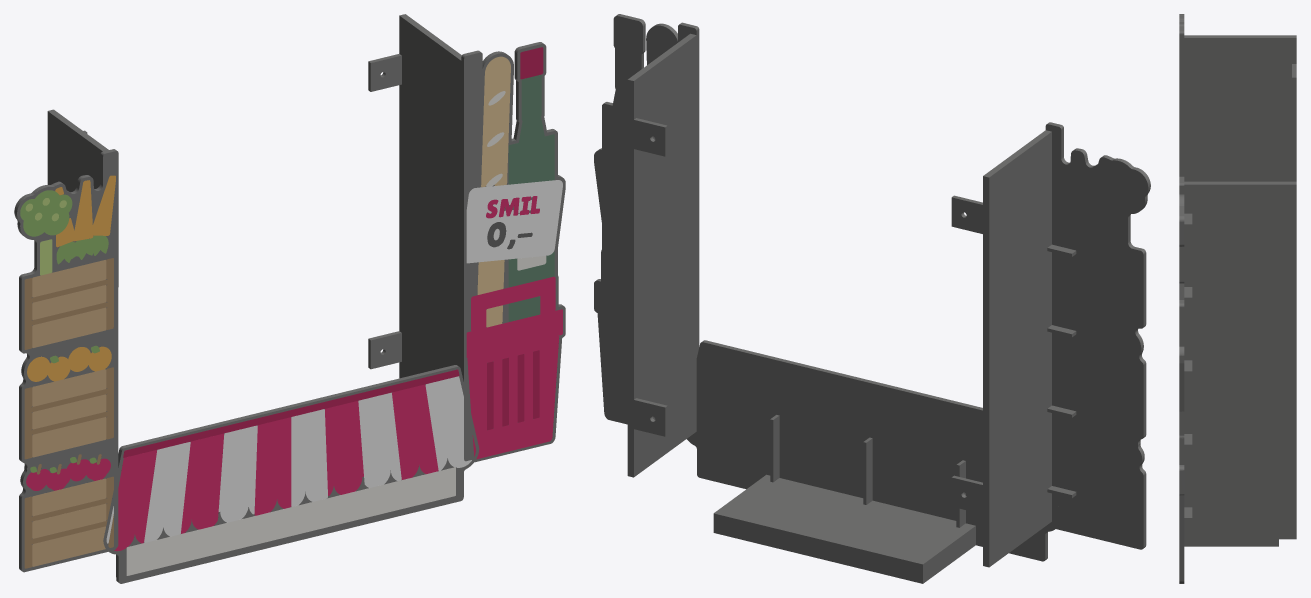
The model's file is parts.glb.
The picture shows the model from 3 angles, left to right: view 1: azimuth 30°, elevation 25°; view 2: azimuth 150°, elevation 25°; view 3: azimuth 270°, elevation 25°; orthographic projection. The views are drawn at different scales.
Visible parts, largest first — view 1: wing_right__base, topper__white, topper__red, wing_left__wood, wing_left__base, wing_right__red, topper__cream, topper__base, wing_left__woodd, wing_right__white, wing_right__bottle, wing_right__bread (+6 smaller); view 2: wing_left__base, topper__base, wing_right__base; view 3: wing_right__base, wing_left__base, topper__base.
Part boxes in pixels (x1,y1,x2,y2): wing_right__base: [368, 14, 565, 462]; topper__white: [106, 376, 471, 543]; topper__red: [114, 384, 438, 551]; wing_left__wood: [32, 260, 106, 566]; wing_left__base: [14, 109, 118, 572]; wing_right__red: [466, 196, 562, 459]; topper__cream: [126, 467, 455, 575]; topper__base: [103, 365, 479, 583]; wing_left__woodd: [24, 258, 113, 568]; wing_right__white: [466, 180, 562, 263]; wing_right__bottle: [508, 75, 554, 321]; wing_right__bread: [477, 56, 510, 327]; wing_left__base: [951, 122, 1150, 567]; topper__base: [687, 340, 1060, 583]; wing_right__base: [594, 14, 699, 477]; wing_right__base: [1179, 176, 1296, 583]; wing_left__base: [1179, 14, 1296, 181]; topper__base: [1184, 539, 1278, 546].
Size of the model in its own units: 357 by 276 by 73.01.
